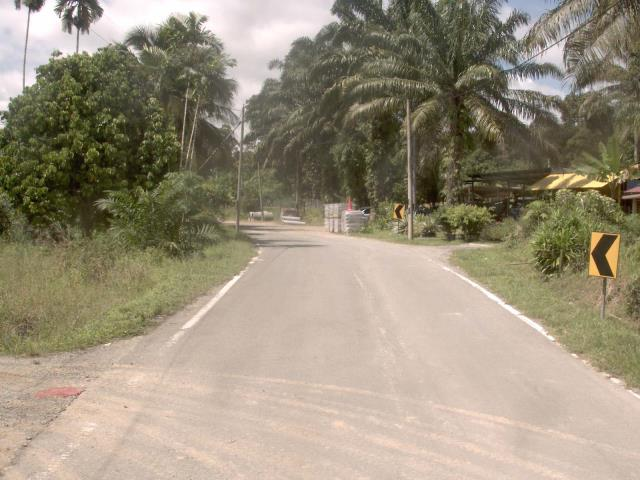traffic_sign: (579, 225, 627, 287)
